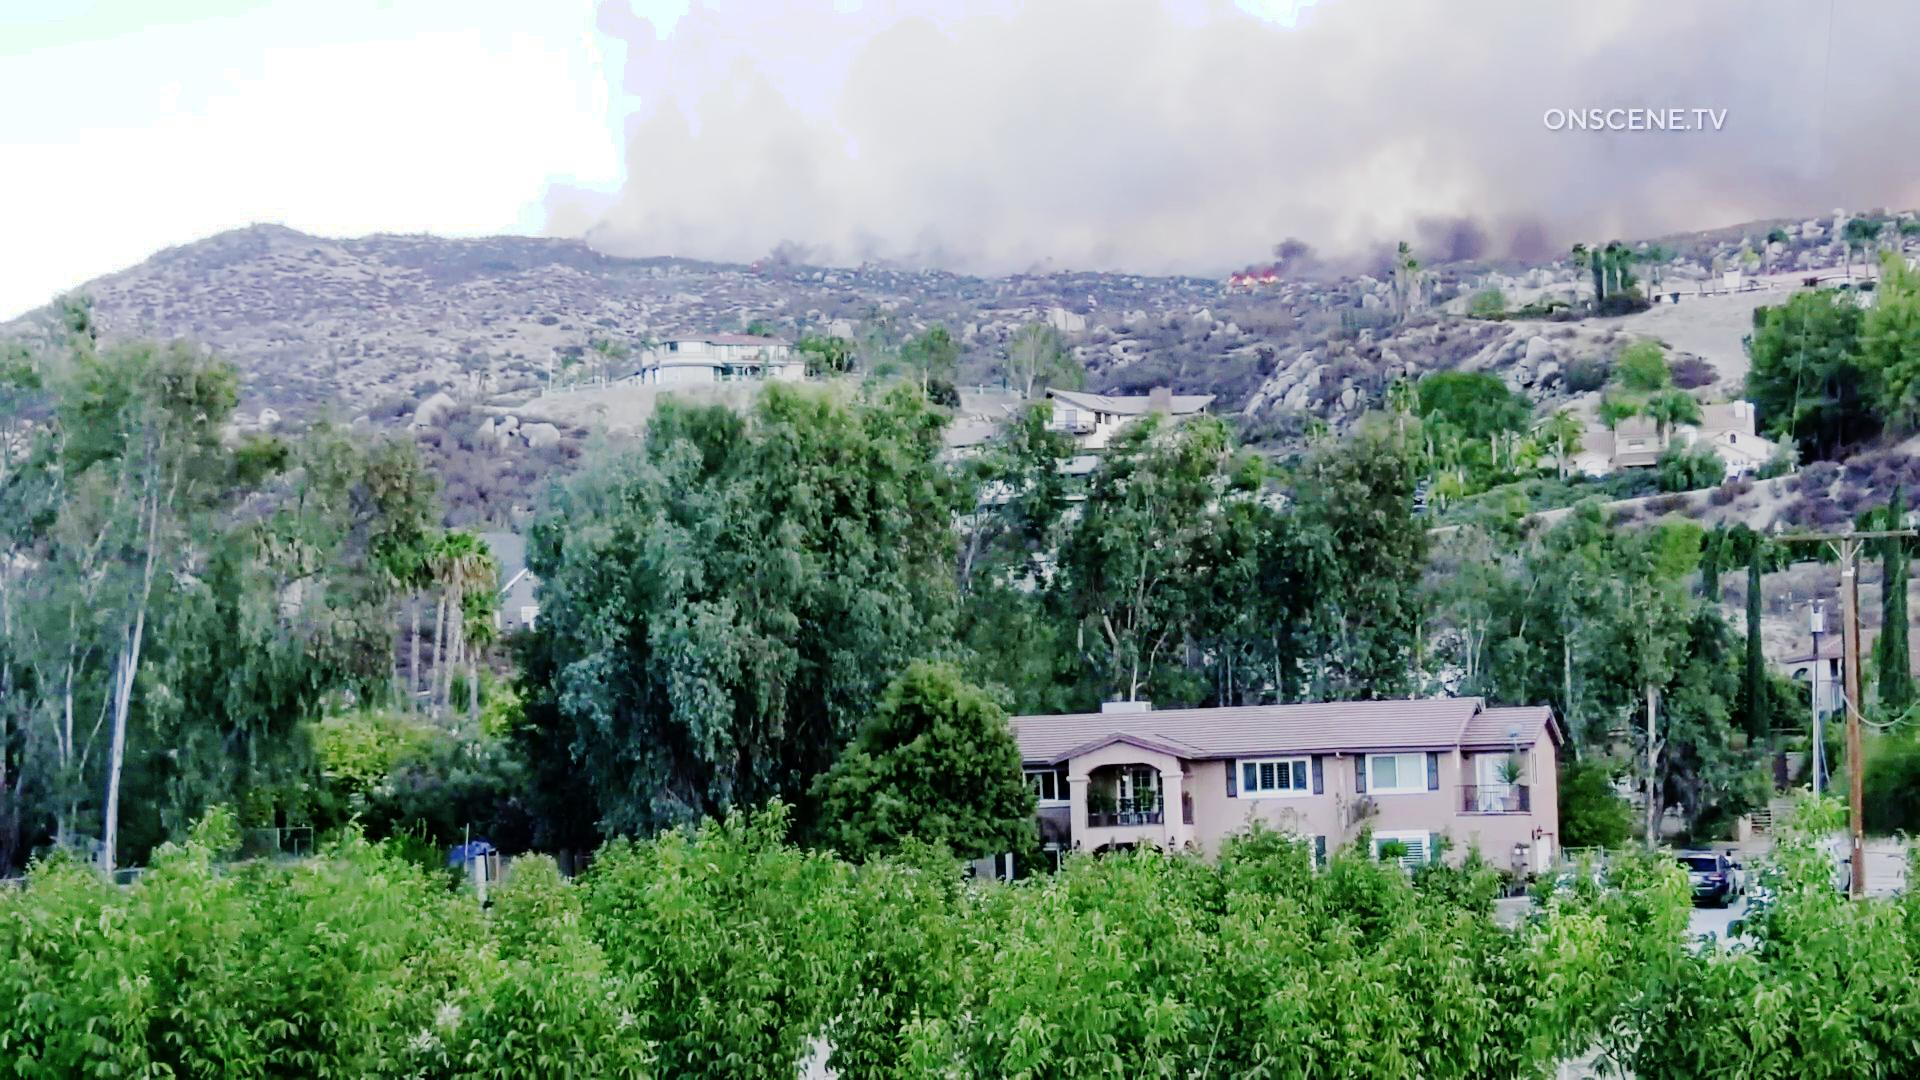smoke: (605, 0, 1491, 243)
